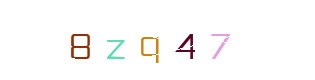4: (117, 0, 197, 80)
7: (153, 0, 233, 80)
8: (75, 0, 155, 80)
Q: (92, 0, 172, 80)
Z: (90, 0, 170, 80)
